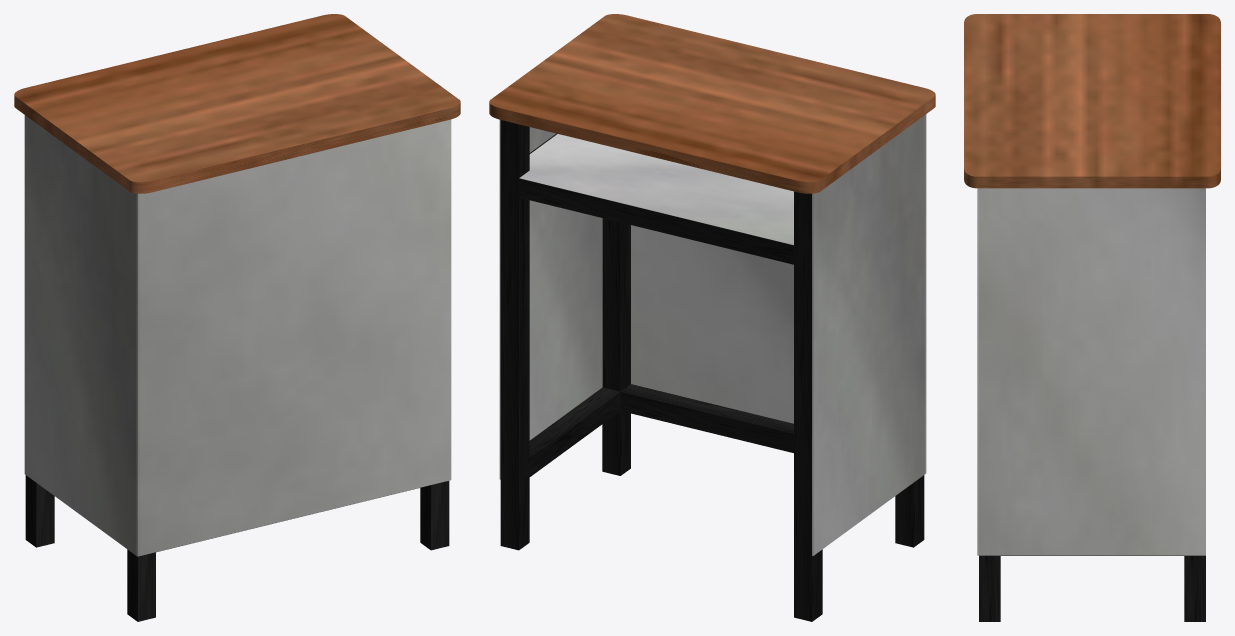
File: lecturn_wt.fbx
3 renders of one model, left to right at view 1: azimuth 30°, elevation 25°; view 2: azimuth 150°, elevation 25°; view 3: azimuth 270°, elevation 25°, orthographic.
Visible parts, largest first — view 1: Front Panel, Top, Sidepanel r, Leg l f, Leg r f, Leg r b; view 2: Top, Sidepanel r, Front Panel, Sidepanel l, shelf, Leg l b, Leg r b, Leg l f, Back Crossbeam, Front Crossbeam lower, Side Crossbeam l l, Leg r f; view 3: Sidepanel l, Top, Leg l f, Leg l b, Front Panel.
Part boxes in pixels (x1,y1,x2,y2): Front Panel: (136,119,451,556); Top: (14,14,460,193); Sidepanel r: (24,115,136,555); Leg l f: (420,481,449,550); Leg r f: (127,549,155,621); Leg r b: (25,475,54,547); Top: (489,14,935,193); Sidepanel r: (812,115,925,555); Front Panel: (631,114,926,473); Sidepanel l: (499,120,602,479); shelf: (519,134,793,245); Leg l b: (500,120,529,550); Leg r b: (794,191,822,621); Leg l f: (602,218,630,475); Back Crossbeam: (519,178,793,264); Front Crossbeam lower: (620,384,793,452); Side Crossbeam l l: (524,387,620,480); Leg r f: (895,475,924,547); Sidepanel l: (979,188,1205,555); Top: (964,14,1220,188); Leg l f: (979,555,1000,621); Leg l b: (1184,555,1205,621); Front Panel: (977,188,978,555).
Bounding box in the file's own units: 90 × 116 × 60.
Materials: 6 (6 with a texture image).
